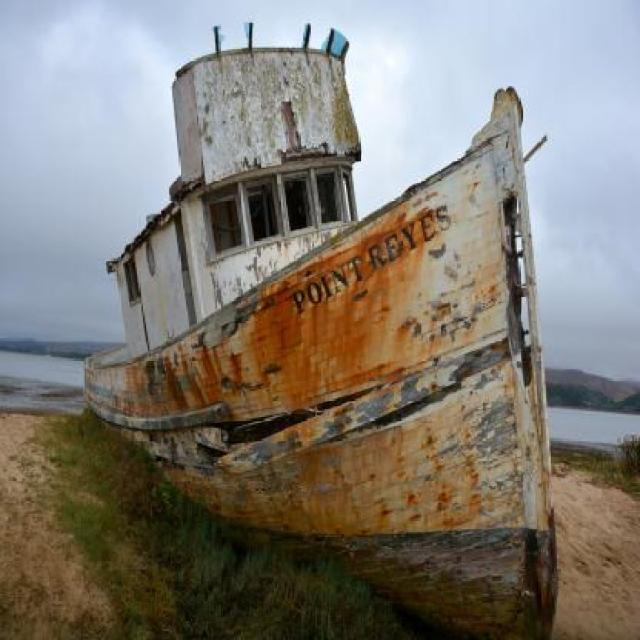corrosion: (82, 48, 558, 635)
